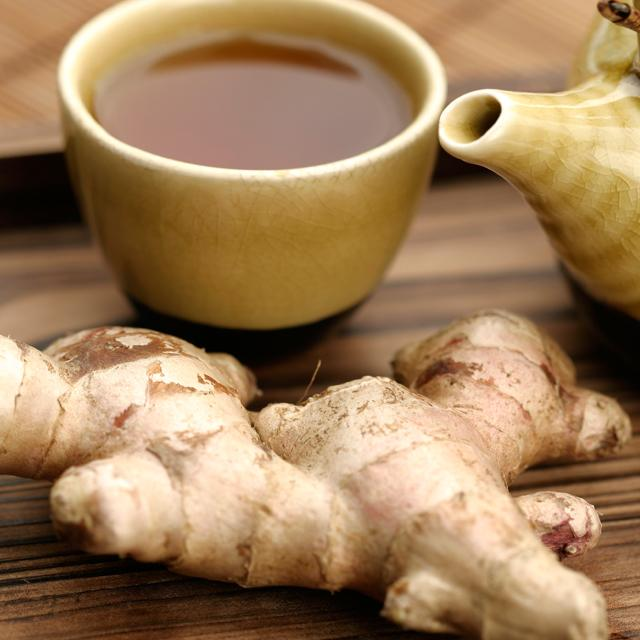ginger: (0, 301, 623, 640)
